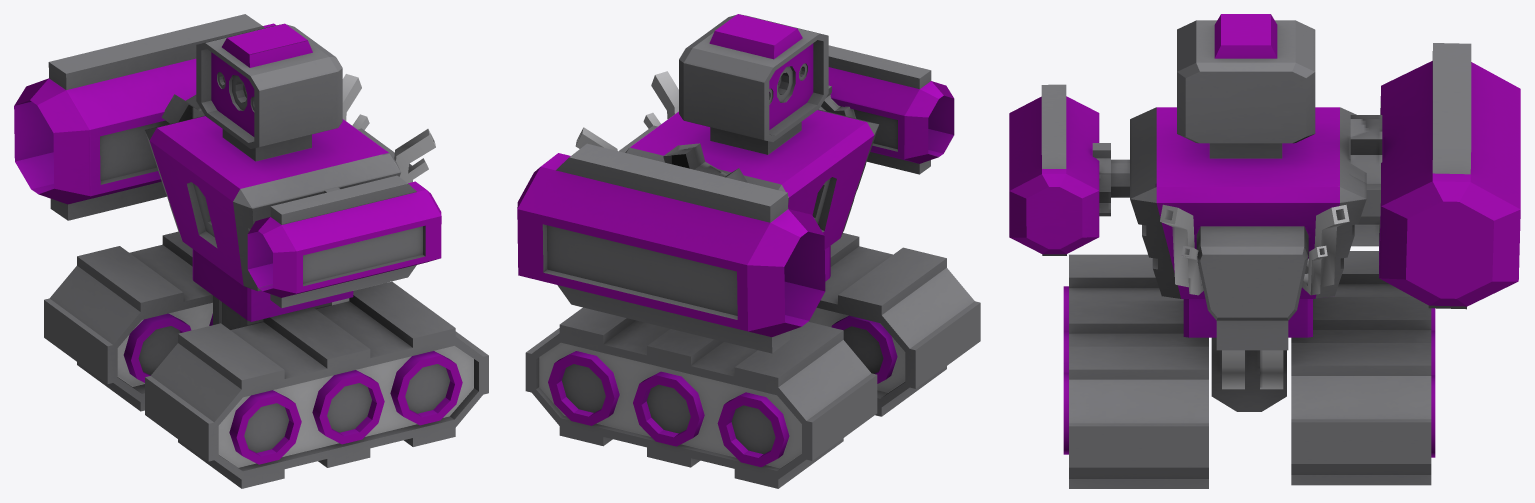
File: Enemy2_Die1.obj
The picture shows the model from 3 angles, left to right: view 1: azimuth 30°, elevation 25°; view 2: azimuth 150°, elevation 25°; view 3: azimuth 270°, elevation 25°; orthographic projection. The views are drawn at different scales.
Parts seen in each view (by area): view 1: Object006, Object011, Object013, Object014, Object012, Object010, Object009; view 2: Object006, Object011, Object012, Object013, Object014, Object010, Object009; view 3: Object006, Object011, Object013, Object012, Object010, Object014, Object009, Object008.
Boxes of the visible parts, box(x1,y1,x2,y2) form: Object006: box(44, 231, 488, 488); Object011: box(14, 14, 275, 220); Object013: box(145, 116, 400, 329); Object014: box(247, 175, 441, 308); Object012: box(196, 23, 342, 161); Object010: box(332, 74, 435, 305); Object009: box(161, 94, 204, 123); Object006: box(525, 233, 980, 488); Object011: box(517, 143, 825, 353); Object012: box(679, 14, 828, 154); Object013: box(625, 109, 879, 281); Object014: box(828, 45, 954, 174); Object010: box(575, 71, 678, 152); Object009: box(663, 143, 747, 182); Object006: box(1063, 251, 1435, 488); Object011: box(1379, 43, 1520, 309); Object013: box(1130, 107, 1366, 411); Object012: box(1177, 14, 1315, 158); Object010: box(1160, 204, 1349, 389); Object014: box(1009, 84, 1099, 255); Object009: box(1350, 115, 1382, 246); Object008: box(1092, 143, 1129, 216).
Bounding box in the file's own units: 87.45 × 108 × 125.
